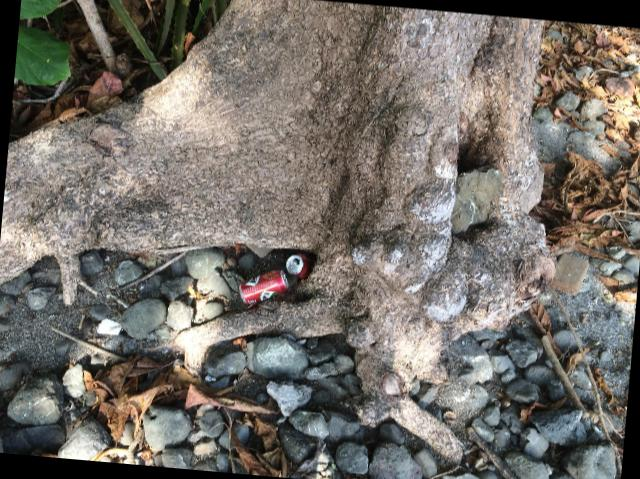metal: (238, 269, 287, 304), (284, 253, 312, 278)
